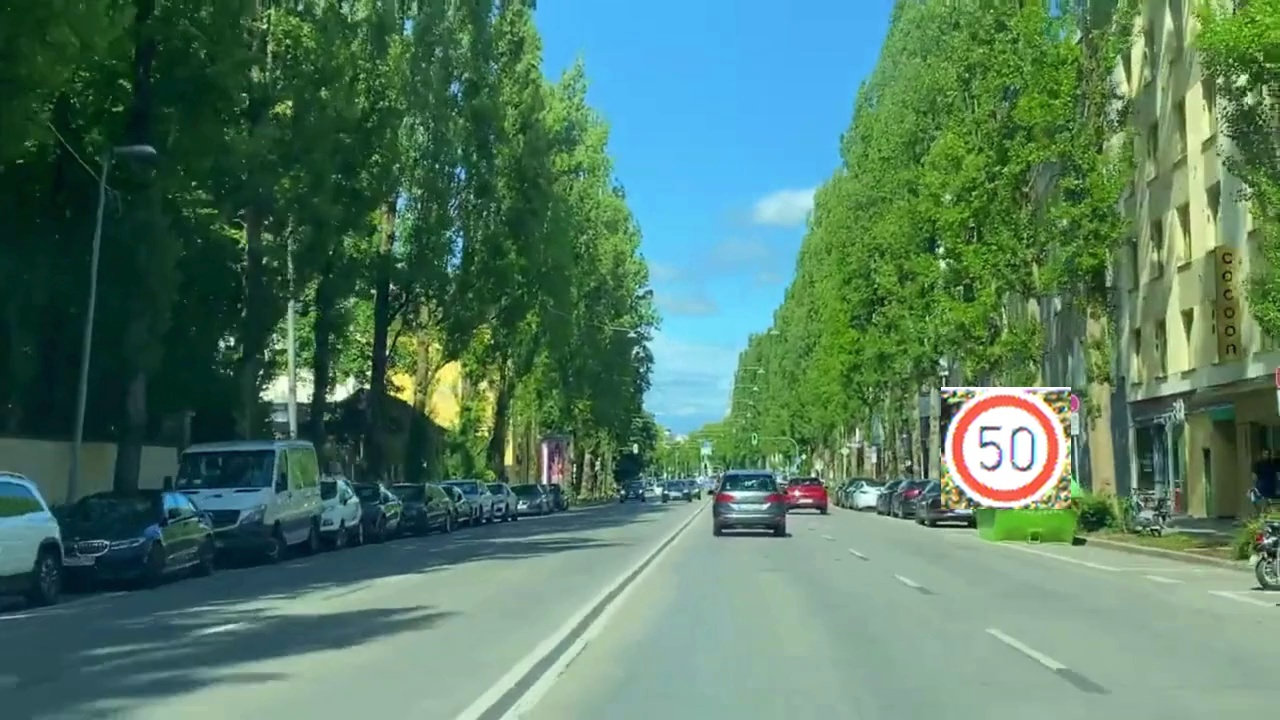Speed 50: (941, 387, 1071, 509)
